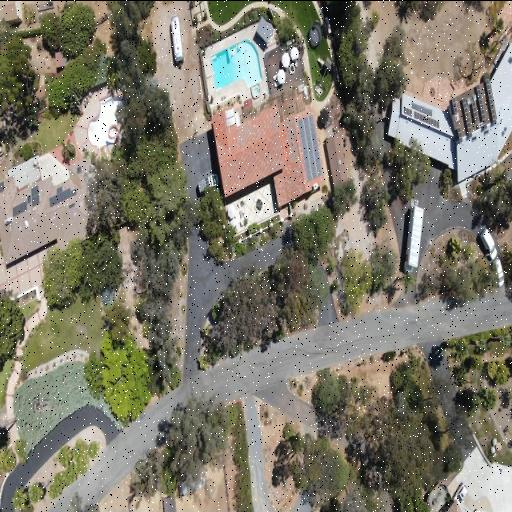solar-panel: (297, 114, 323, 181), (476, 84, 488, 130), (50, 186, 76, 207), (486, 79, 497, 125), (414, 110, 439, 129), (462, 97, 473, 138), (13, 201, 27, 217), (31, 185, 39, 207), (472, 101, 479, 123), (403, 106, 412, 117), (452, 97, 458, 113), (457, 127, 463, 143), (0, 181, 4, 192)
